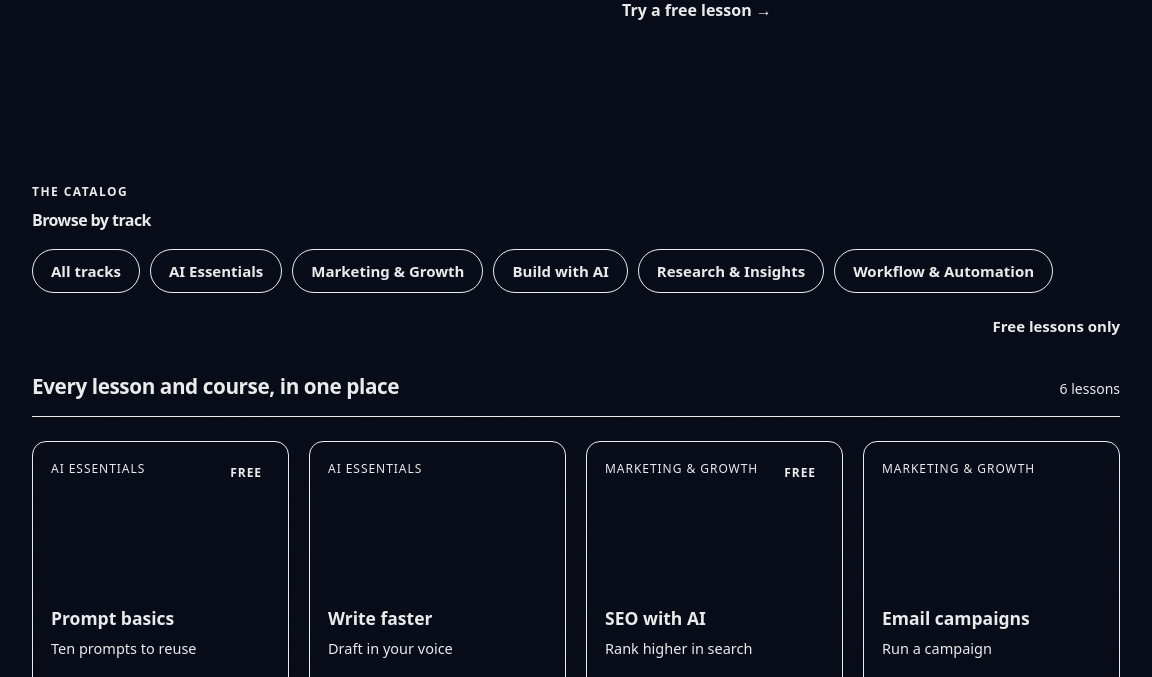
Test case: Learn catalog filtering › the free switch keeps only free entries
This screenshot has width=1152, height=677.
(page scrolled)
Click the switch labelled "Free lessons only".
click(1031, 326)  # box left=942, top=303, right=1120, bottom=349
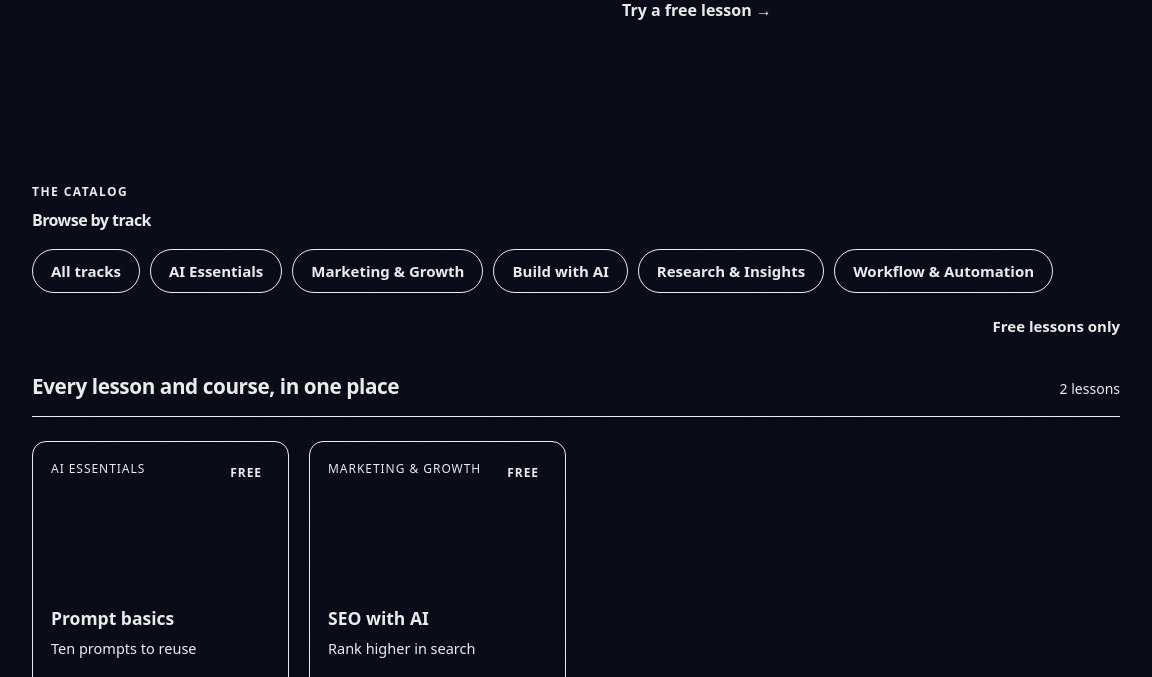
Now the text "2 lessons" is shown, box left=1060, top=378, right=1120, bottom=399
